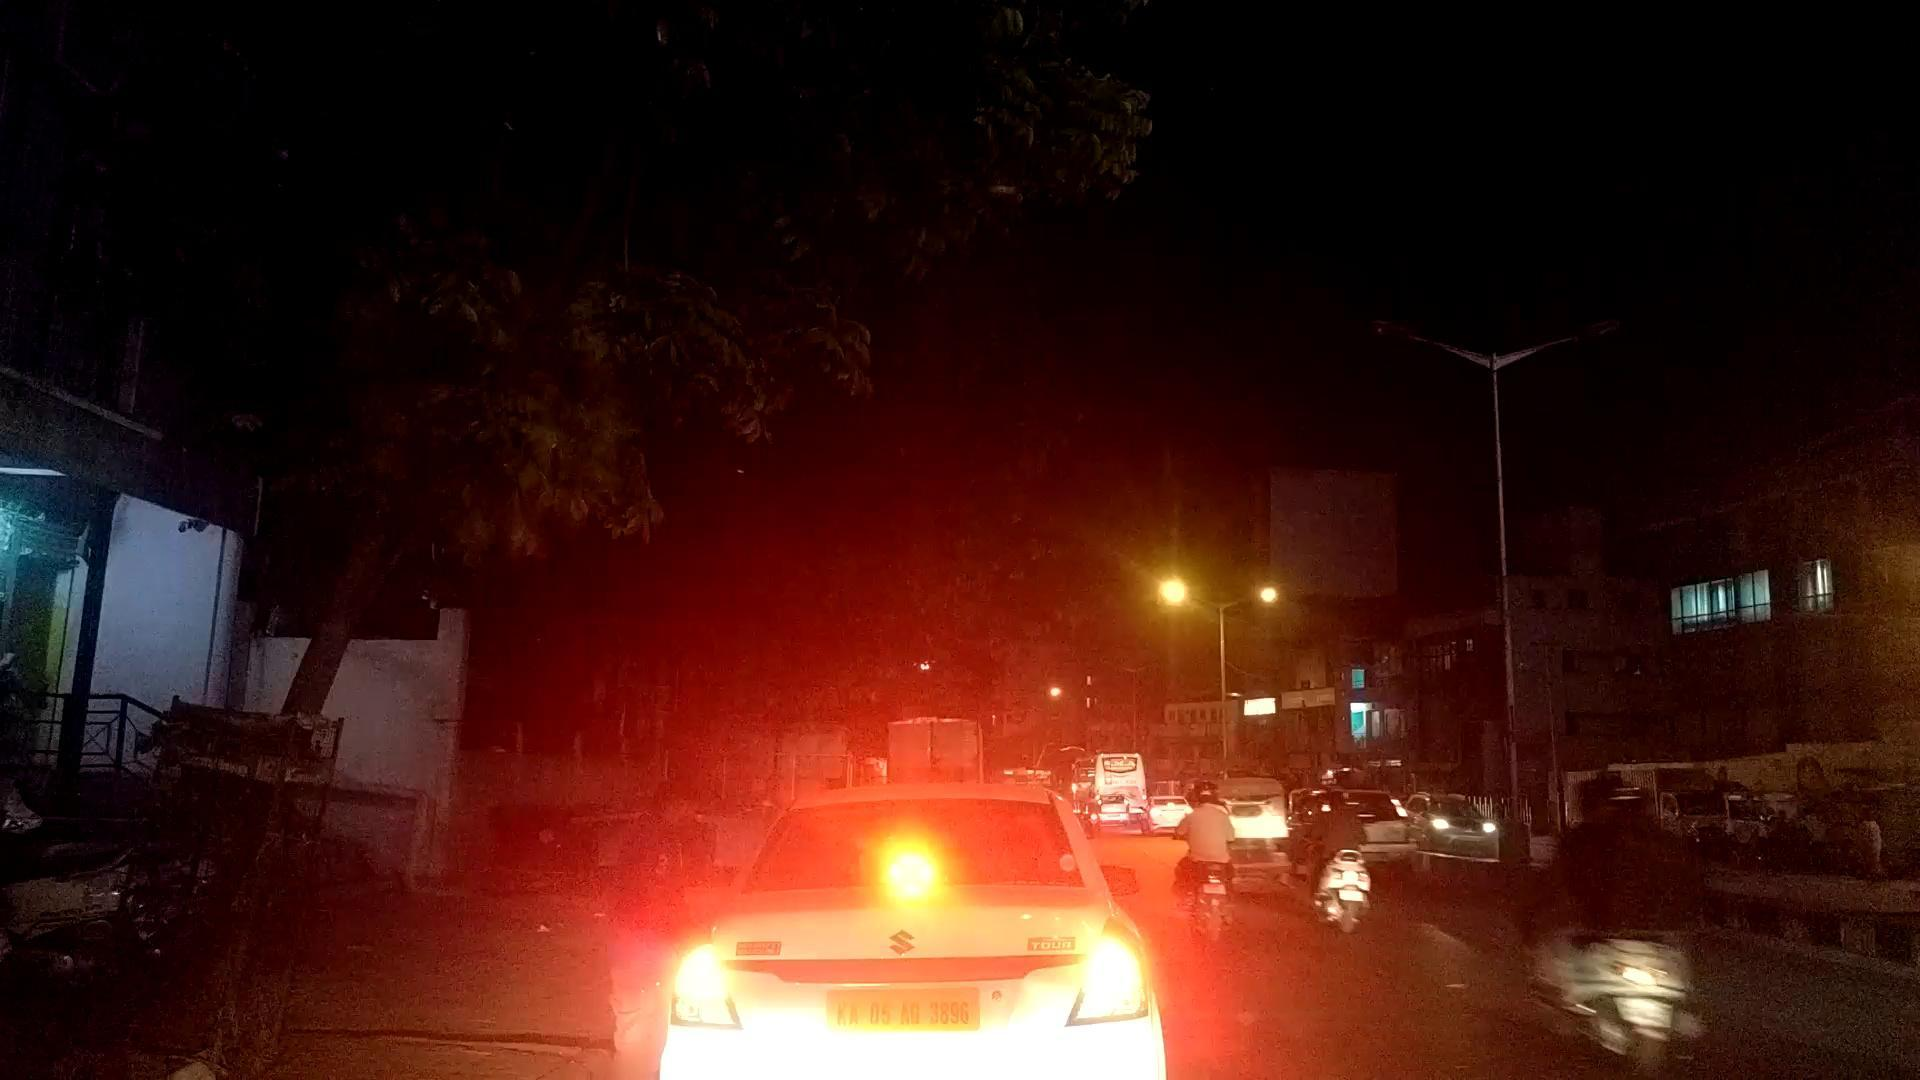on: (1021, 171, 1679, 955)
